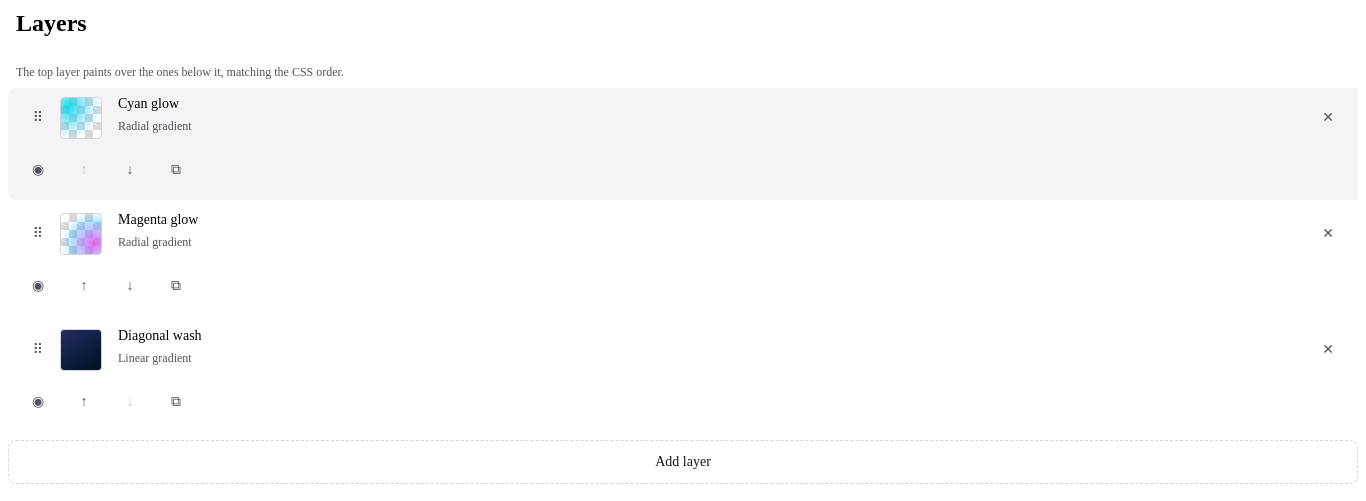
it: deleting a layer › restores the layer at its original index
This screenshot has width=1366, height=501.
Step 1. Click the button named "Delete Magenta glow" → (1328, 234), box top-left (1306, 212), bottom-right (1350, 256)
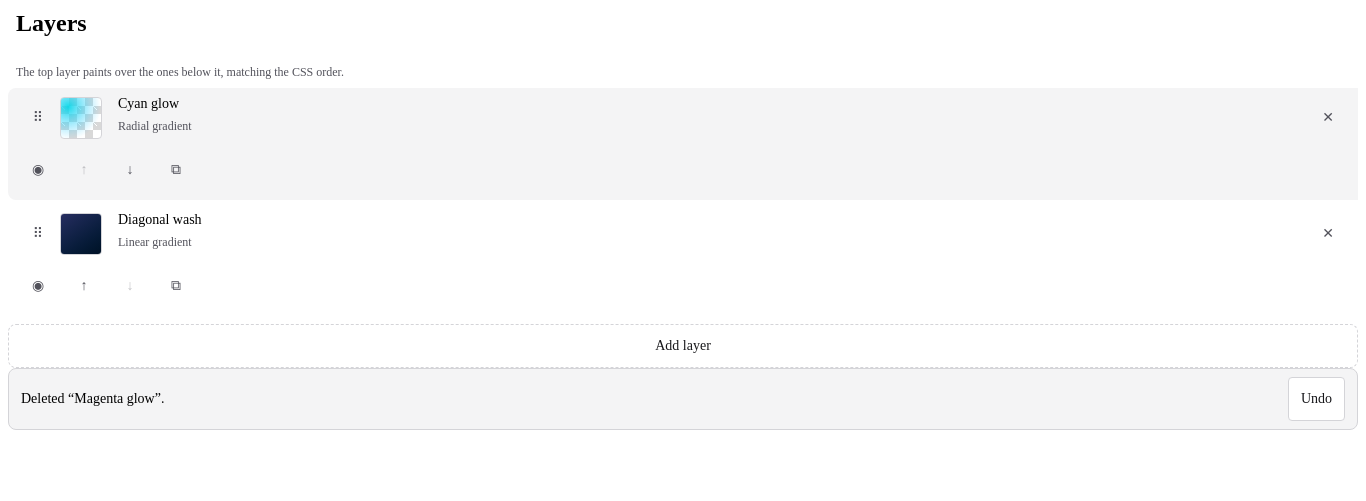
Step 2. Click the button "Undo" → (1316, 399), box top-left (1288, 377), bottom-right (1345, 421)
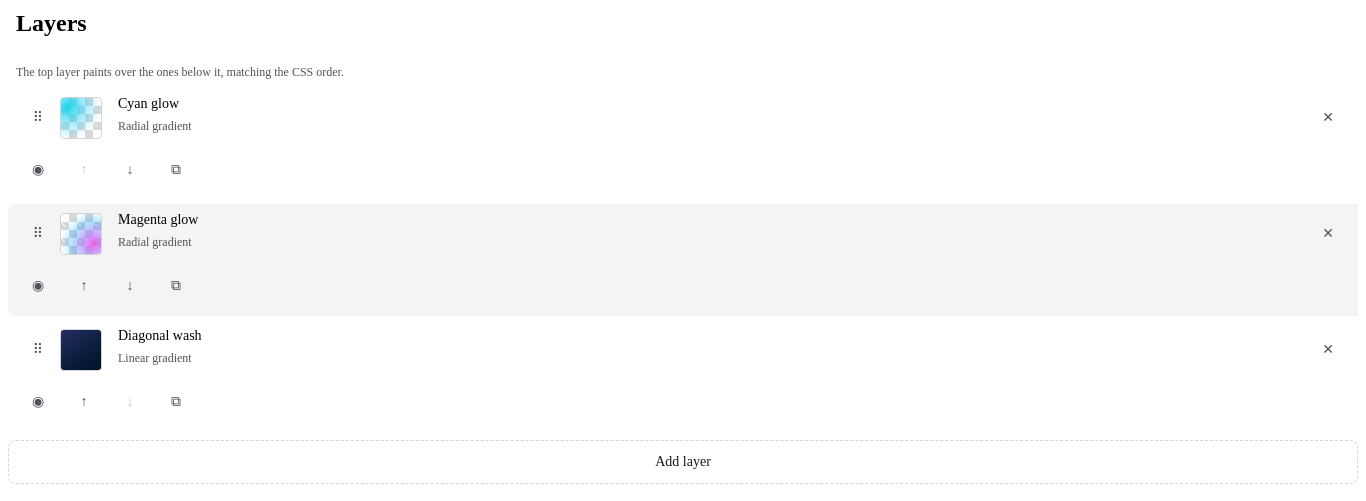
Expected: the text "Magenta glow" is shown, top-left (118, 212), bottom-right (198, 228)
Expected: the message "Deleted “Magenta glow”. Undo" is gone
